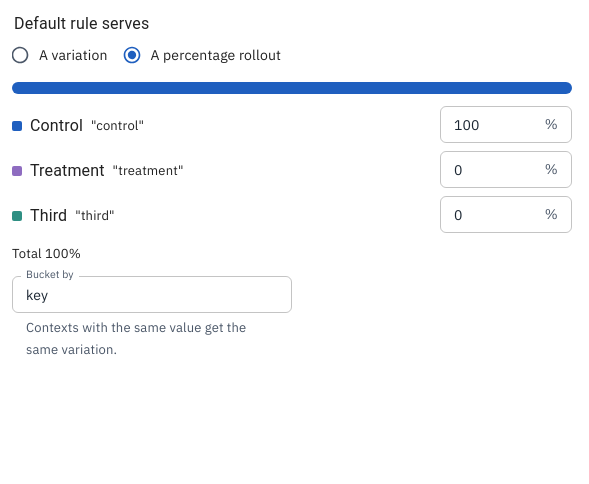
ServeEditor › converts percentages to weights and explains totals other than 100%
Step 1. Replace the text in the field named "Percentage for Control" with "60" → [488, 125], box 440,106 -> 537,143
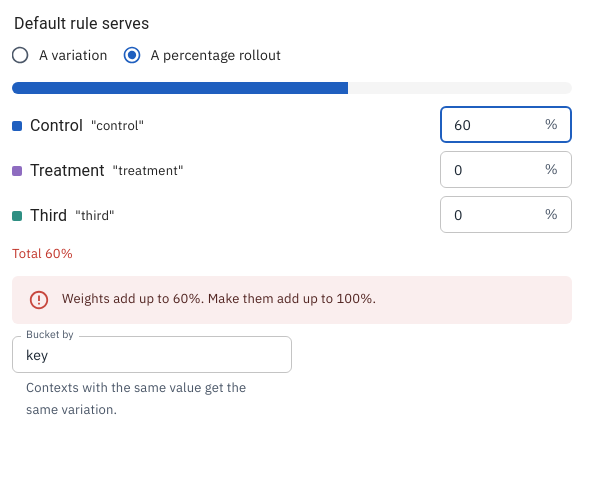
Step 2. Replace the text in the field named "Percentage for Treatment" with "30" → [488, 170], box 440,151 -> 537,188
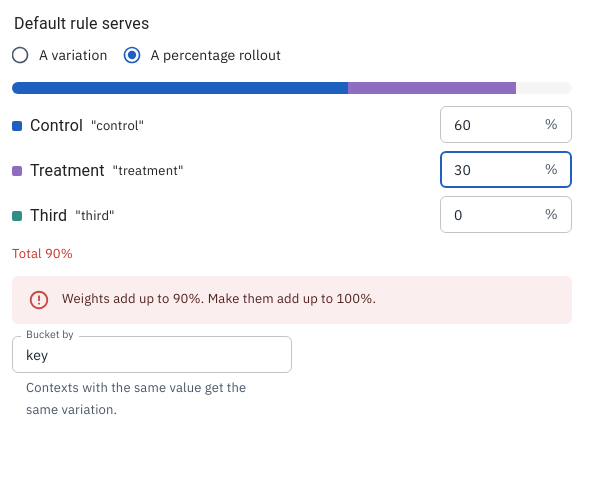
Result: the message reads "Weights add up to 90%. Make them add up to 100%." at 62,290 -> 376,307
Step 3. Replace the text in the field named "Percentage for Treatment" with "39.999" → [488, 170], box 440,151 -> 537,188
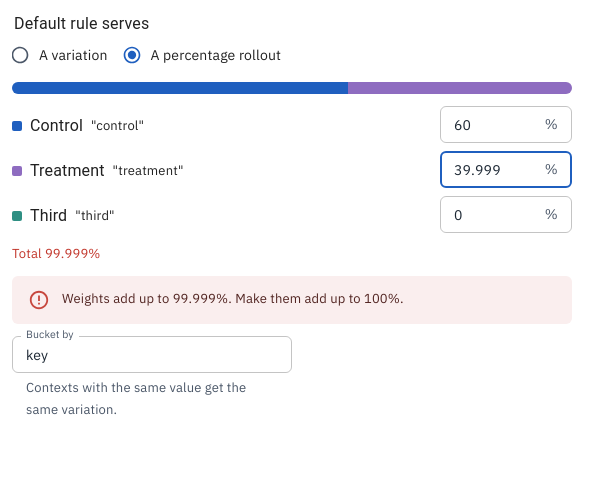
Result: the message reads "Weights add up to 99.999%. Make them add up to 100%." at 62,290 -> 404,307
Step 4. Type "9" into the field named "Percentage for Treatment" → [488, 170], box 440,151 -> 537,188
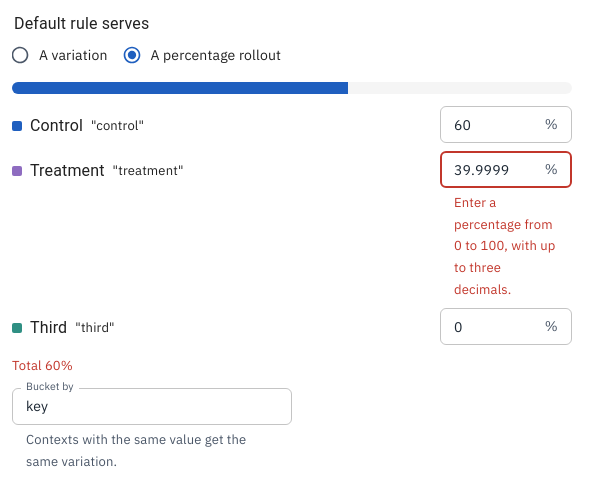
Result: the text "Enter a percentage from 0 to 100, with up to three decimals." is shown at 454,192 -> 558,300
Step 5. Replace the text in the field named "Percentage for Treatment" with "40" → [488, 170], box 440,151 -> 537,188
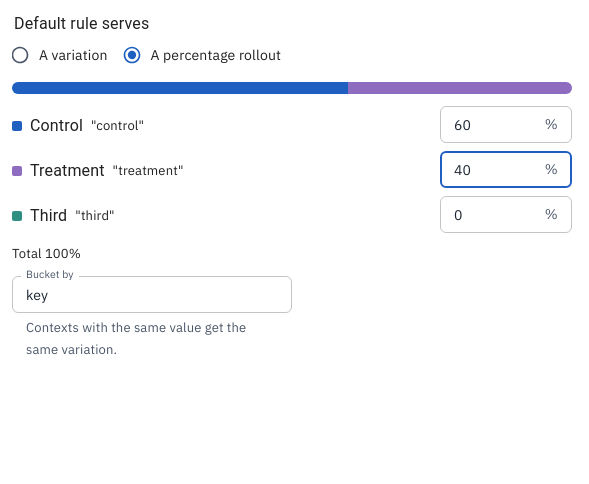
Result: the message "Weights add up to 60%. Make them add up to 100%." is gone
